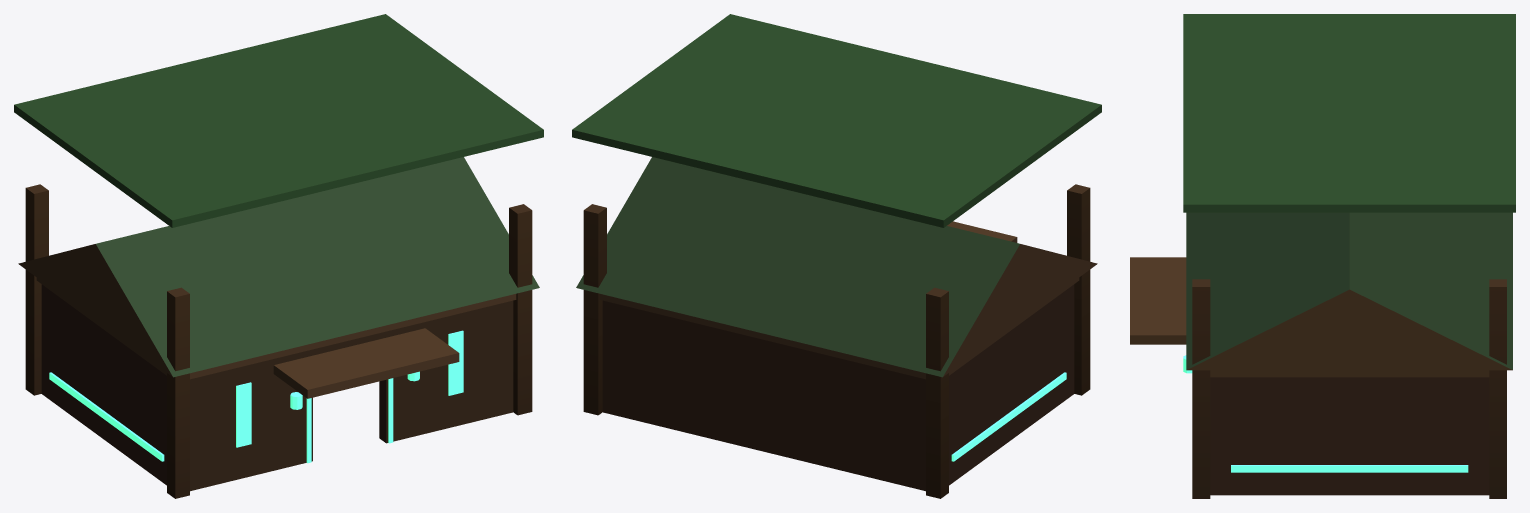
File: shaddai_dist_forest_b4_v01.glb
3 views of the same model, side by side, from view 1: azimuth 30°, elevation 25°; view 2: azimuth 150°, elevation 25°; view 3: azimuth 270°, elevation 25° (orthographic). The views are drawn at different scales.
Visible parts, largest first — view 1: shaddai_dist_forest_b4; view 2: shaddai_dist_forest_b4; view 3: shaddai_dist_forest_b4.
Part boxes in pixels (x1,y1,x2,y2): shaddai_dist_forest_b4: (14,14,543,498); shaddai_dist_forest_b4: (572,14,1101,498); shaddai_dist_forest_b4: (1130,14,1515,498).
Size of the model in its own units: 15.2 by 11.08 by 13.
